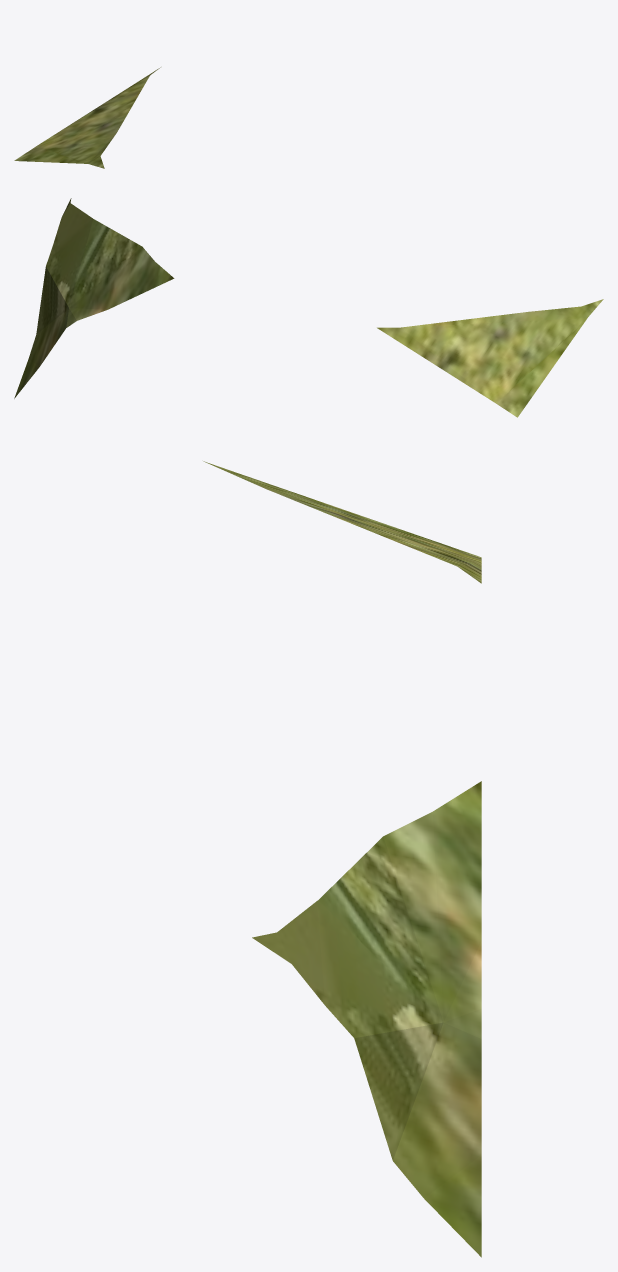
3 views of the same model, one above another, from view 1: azimuth 30°, elevation 25°; view 2: azimuth 150°, elevation 25°; view 3: azimuth 270°, elevation 25° (orthographic). The views are drawn at different scales.
Bounding box in the file's own units: 2.95 × 0.8961 × 0.8765.
Materials: 1 (1 with a texture image).
